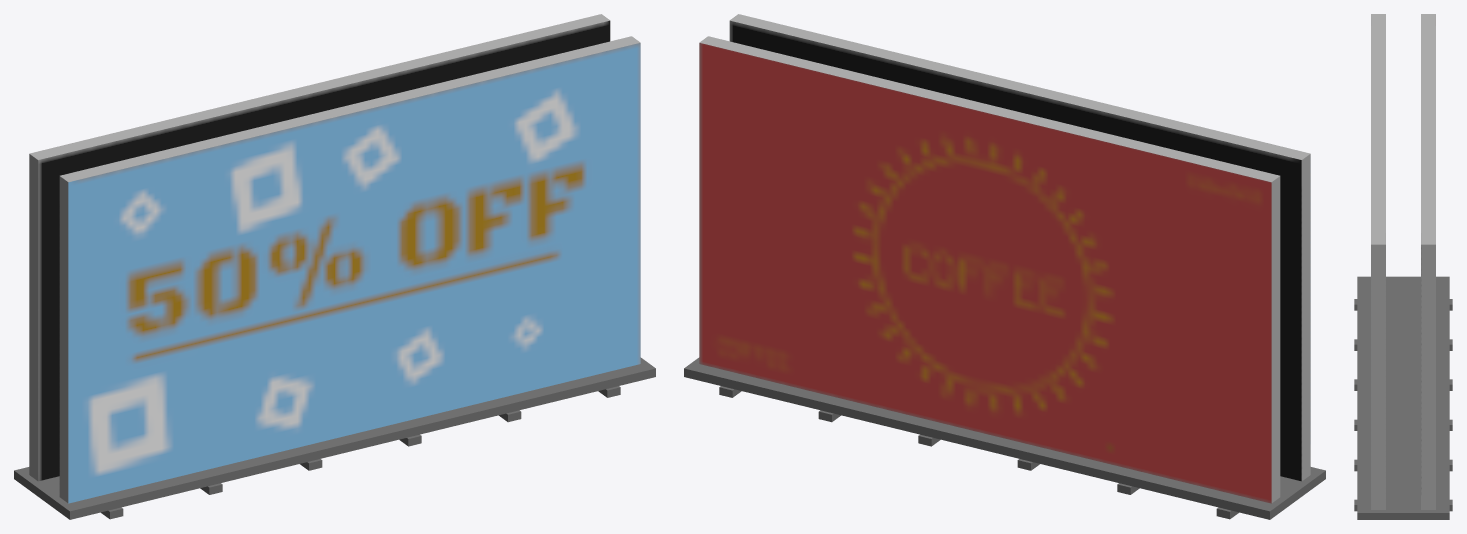
Rendered from BillboardTop.glb.
3 renders of one model, left to right at view 1: azimuth 30°, elevation 25°; view 2: azimuth 150°, elevation 25°; view 3: azimuth 270°, elevation 25°, orthographic. The views are drawn at different scales.
Parts seen in each view (by area): view 1: BillboardTop; view 2: BillboardTop; view 3: BillboardTop.
Boxes of the visible parts, box(x1,y1,x2,y2) form: BillboardTop: box(14, 14, 655, 519); BillboardTop: box(684, 14, 1325, 519); BillboardTop: box(1354, 14, 1452, 519).
Size of what is drawn, in the model's own units: 5.07 by 2.79 by 0.8889.
1 material, 1 textured.
